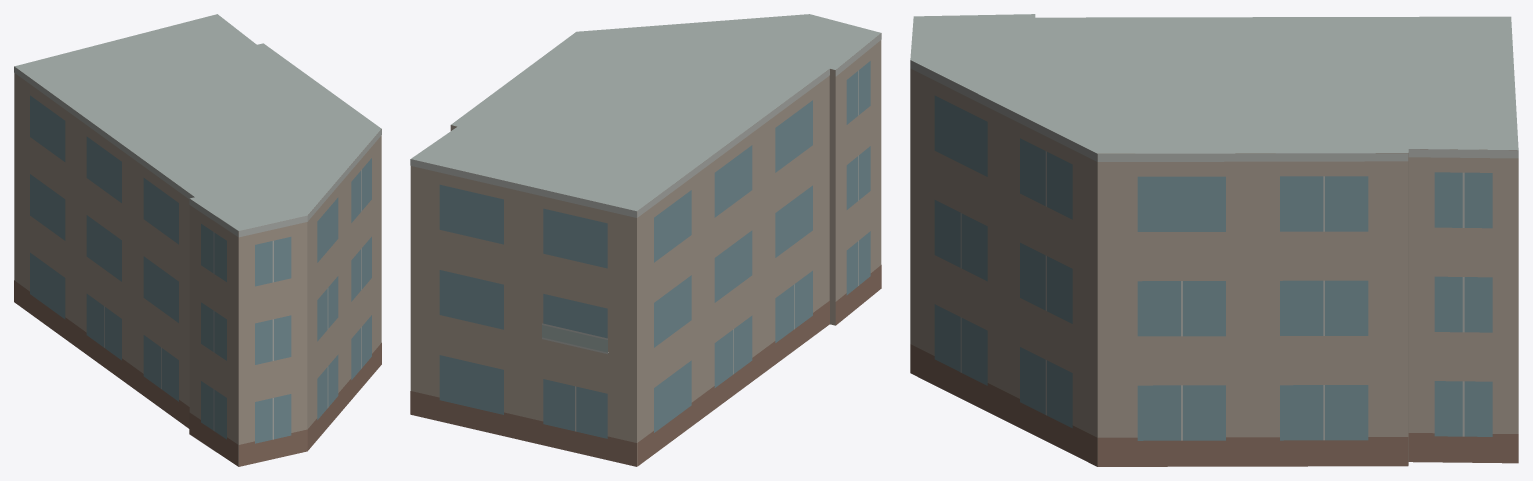
Rendered from survey-upis-33019502.glb.
The picture shows the model from 3 angles, left to right: view 1: azimuth 30°, elevation 25°; view 2: azimuth 150°, elevation 25°; view 3: azimuth 270°, elevation 25°; orthographic projection. The views are drawn at different scales.
Visible parts, largest first — view 1: survey-upis-33019502.tmp; view 2: survey-upis-33019502.tmp; view 3: survey-upis-33019502.tmp.
Boxes of the visible parts, <box> form: survey-upis-33019502.tmp: <box>14,14,381,466</box>; survey-upis-33019502.tmp: <box>410,14,881,466</box>; survey-upis-33019502.tmp: <box>910,14,1518,466</box>.
Bounding box in the file's own units: 8.77 × 9.15 × 16.12.
